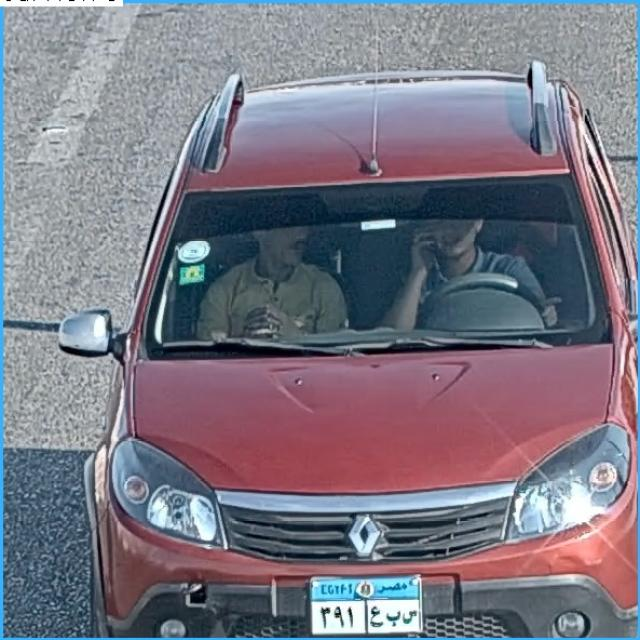windshield: (147, 192, 599, 347)
